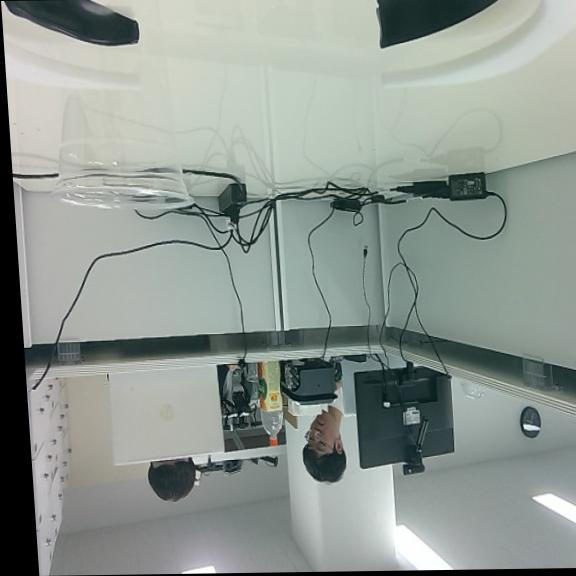Plastik: (56, 2, 190, 207)
